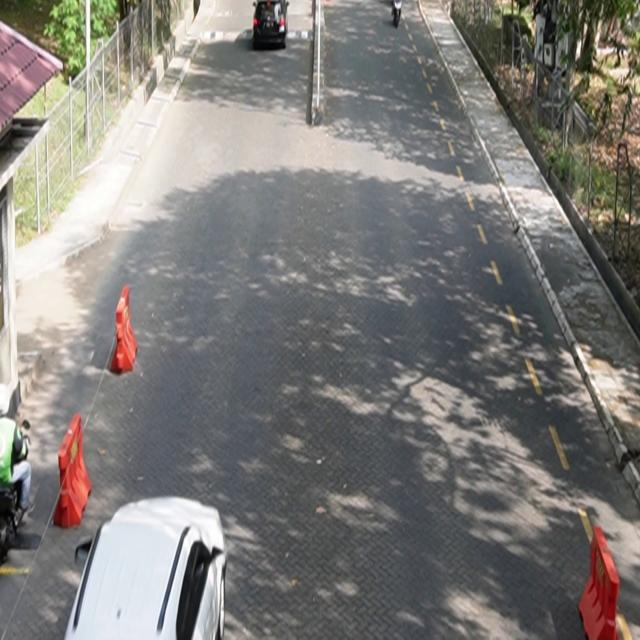car: (65, 496, 228, 640), (253, 1, 290, 50)
